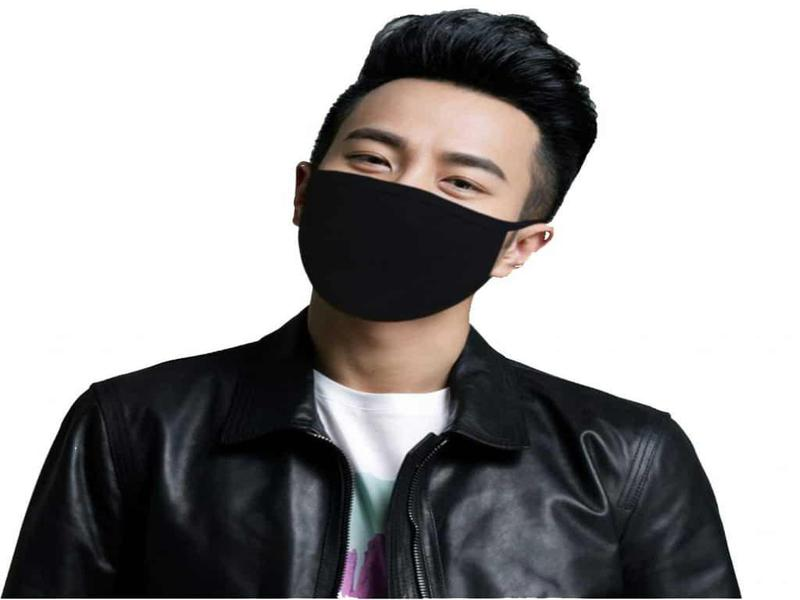with_mask: (291, 10, 598, 327)
